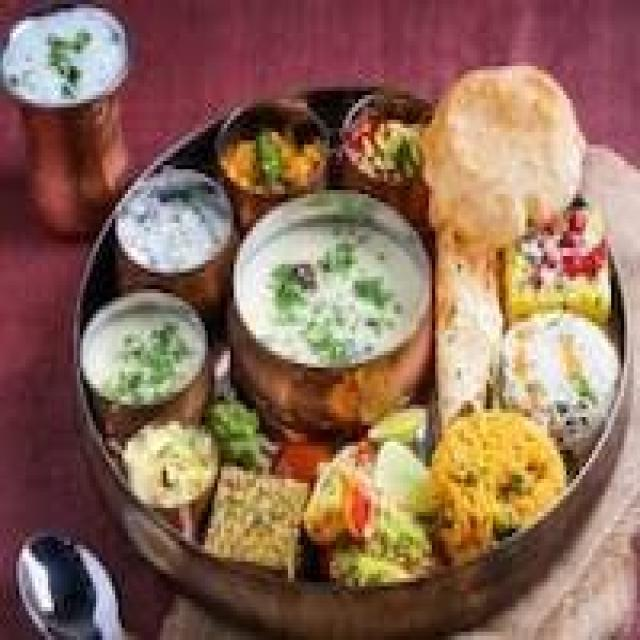curd: (233, 196, 427, 382), (499, 291, 633, 446), (76, 292, 214, 422), (3, 5, 133, 113), (115, 170, 229, 281)
dal: (430, 397, 572, 547), (115, 413, 220, 519)
papad: (206, 467, 300, 572)
raita: (503, 292, 629, 441), (74, 291, 215, 422), (112, 168, 230, 278)
rice: (426, 394, 570, 551), (115, 415, 218, 520)
sweet: (113, 170, 228, 276), (334, 96, 432, 196)
